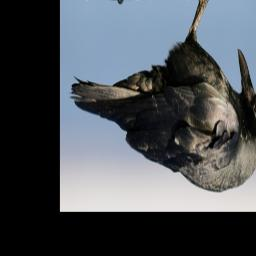Crow: (68, 0, 256, 194)
